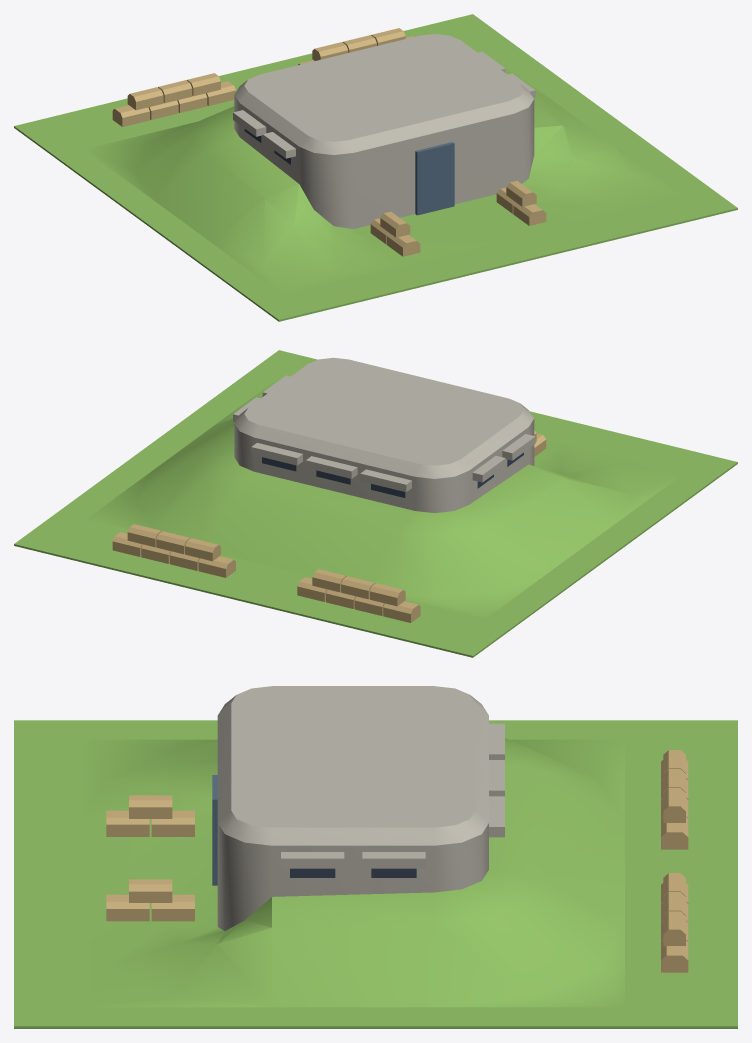
Rendered from bunker.glb.
The picture shows the model from 3 angles, top to bottom: view 1: azimuth 30°, elevation 25°; view 2: azimuth 150°, elevation 25°; view 3: azimuth 270°, elevation 25°; orthographic projection. The views are drawn at different scales.
Visible parts, largest first — view 1: earth_bank, wall, lawn, sandbag_wall (×4), door; view 2: earth_bank, lawn, wall, sandbag_wall (×2), hood (×3); view 3: earth_bank, lawn, wall, sandbag_wall (×4), hood (×5), door.
Boxes of the visible parts, <box> form: earth_bank: <box>84,51,683,294</box>; wall: <box>234,34,534,228</box>; lawn: <box>14,14,737,321</box>; sandbag_wall (×4): <box>112,28,546,256</box>; door: <box>415,142,454,215</box>; earth_bank: <box>84,375,683,618</box>; lawn: <box>14,350,737,657</box>; wall: <box>234,357,534,513</box>; sandbag_wall (×2): <box>112,524,420,622</box>; hood (×3): <box>251,443,411,491</box>; earth_bank: <box>82,738,624,1007</box>; lawn: <box>14,720,737,1028</box>; wall: <box>217,686,488,930</box>; sandbag_wall (×4): <box>106,750,688,972</box>; hood (×5): <box>281,723,504,868</box>; door: <box>212,775,217,885</box>.
Size of the model in its own units: 16 by 2.9 by 16.
